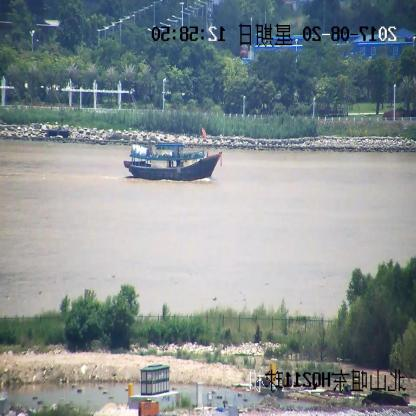Fishing Boat: (124, 140, 221, 180)
